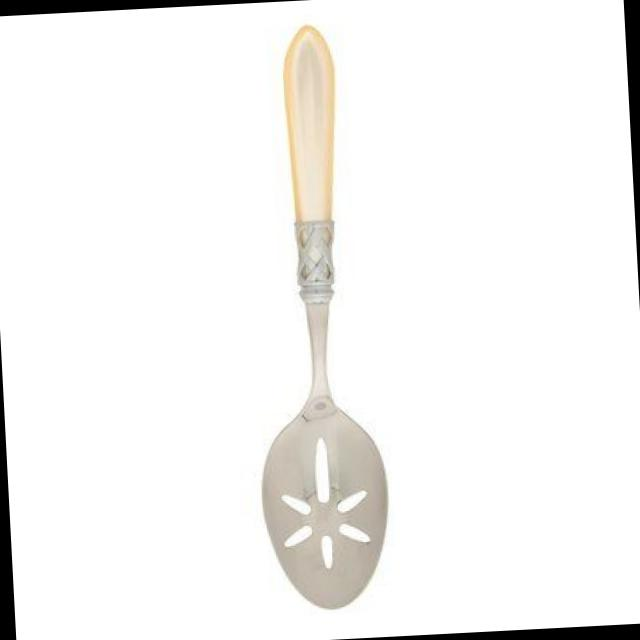spoon: (228, 20, 398, 616)
